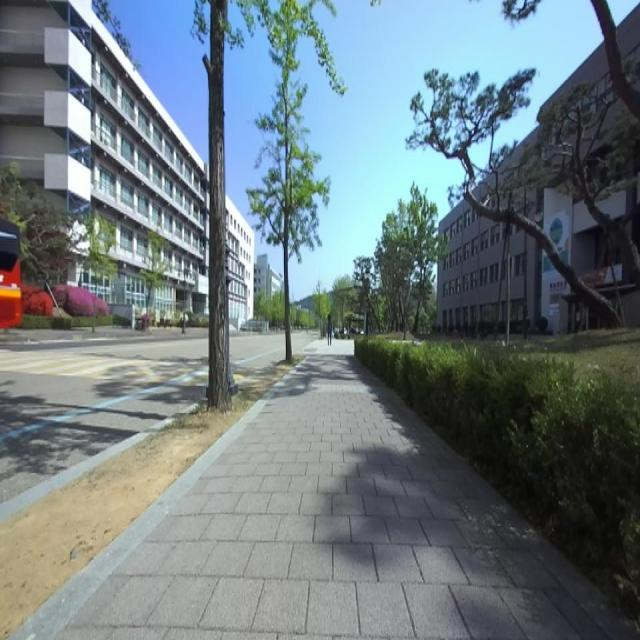sidewalk: (60, 340, 640, 640), (8, 328, 91, 339), (96, 327, 142, 338), (152, 329, 182, 335), (185, 329, 209, 334)
